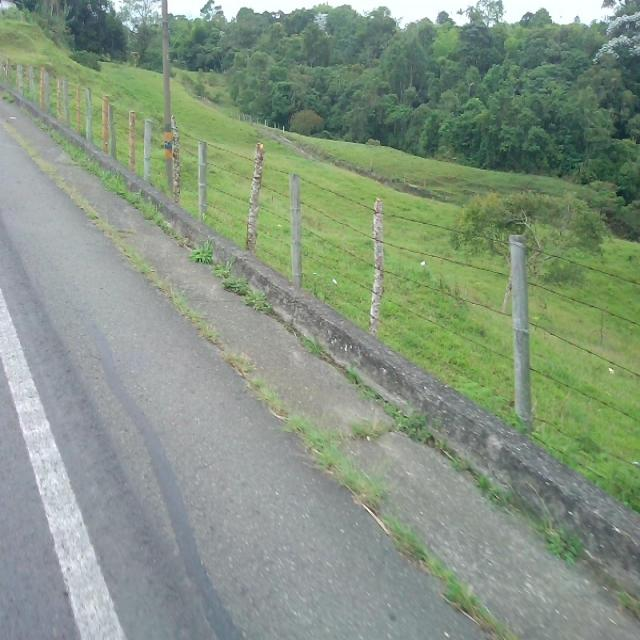DITCH: (1, 85, 638, 638), (1, 89, 638, 638)
